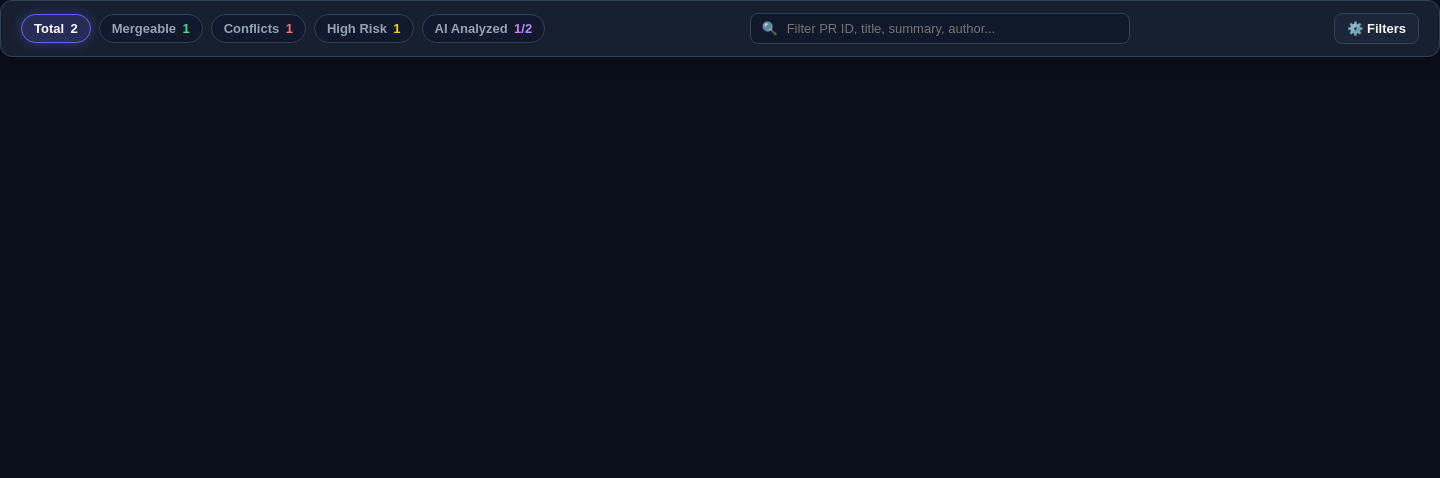
it: PRCommandBar Component › opens floating popover menu when Filters button is clicked
Click the button "⚙️ Filters".
click(1377, 29)  # box [1334,13,1419,44]
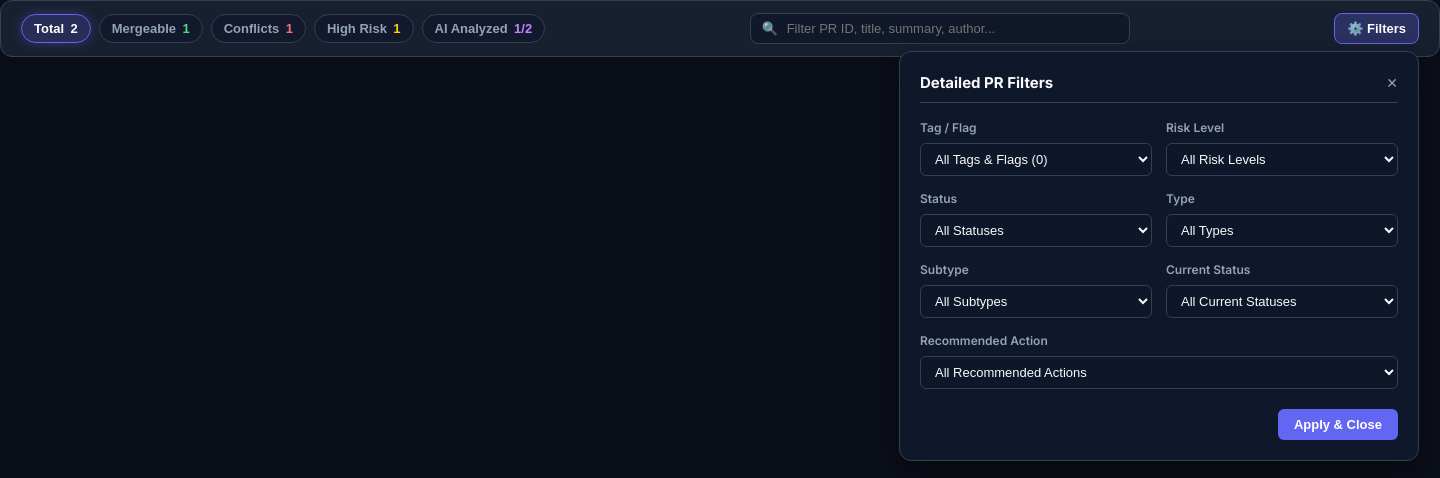
Now the heading "Detailed PR Filters" is shown, box [920,72,1053,94]
